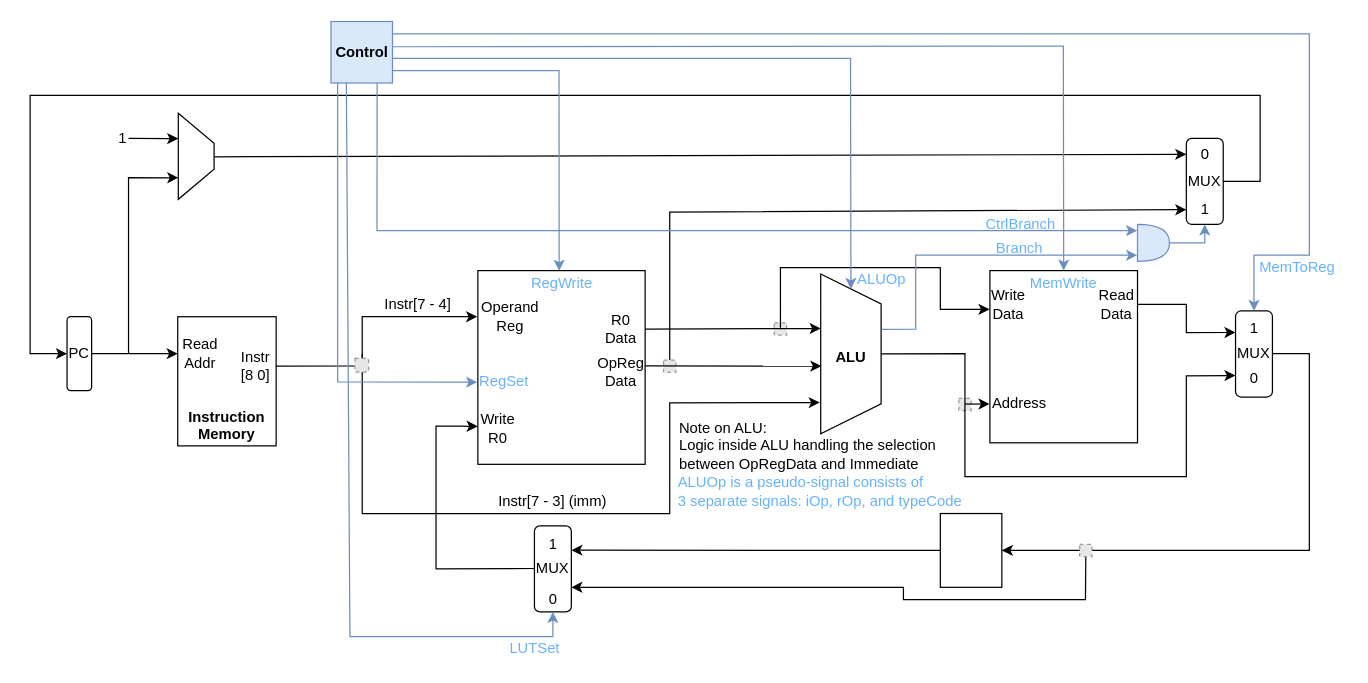
This 1368x683 diagram has some shape labels left out. Grey dashed boxes stand in for pictures. The box of each missing label's shape, as (x1, y1, x2, y2) in pixels:
ADD: (177, 112, 214, 199)
Data Memory: (989, 269, 1138, 443)
LUT: (939, 512, 1002, 587)
Registers: (477, 269, 645, 464)
